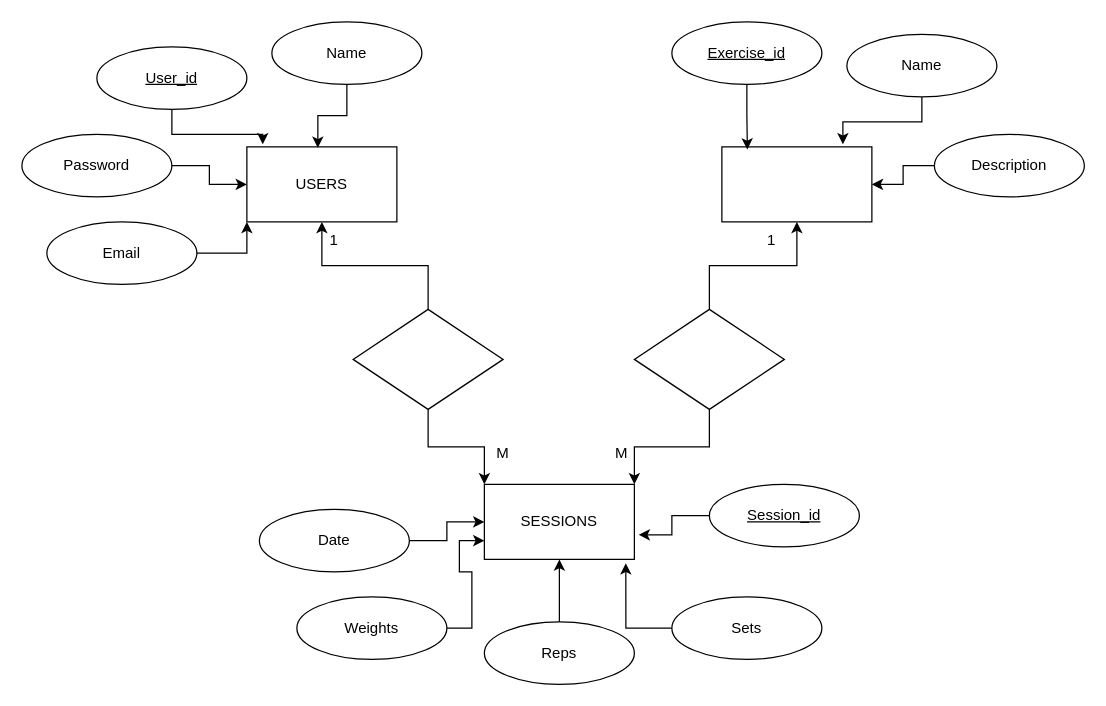
The diagram is 1106 pixels wide and 706 high, and some of its shapes have lost their labels. Here are the shapes that lost their labels. From the top down, the centre of each, then its label:
the point at 796,184: EXERCISES
the point at 427,358: Workout
the point at 708,358: Perform
